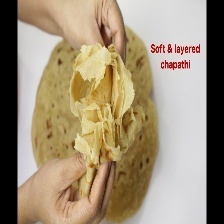roti: (27, 19, 164, 224)
